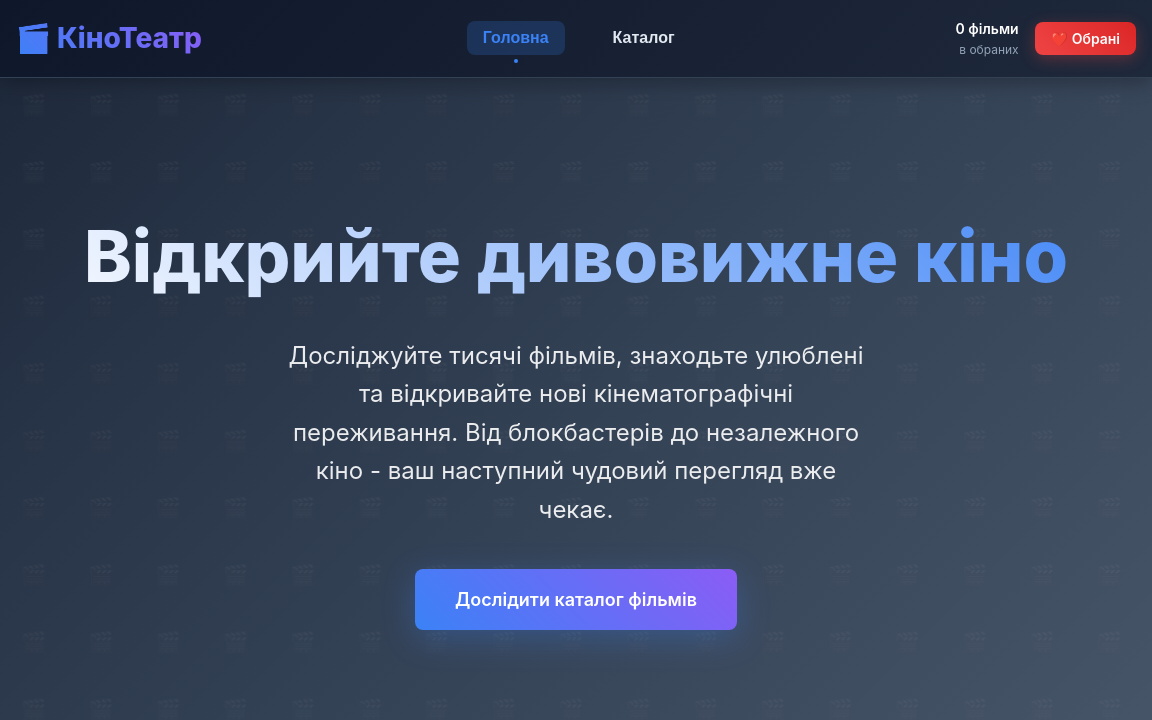
Test: Навігація › переходить між всіма сторінками
Expected: the heading "Відкрийте дивовижне кіно" is shown, [16,198,1136,313]
Click the button "Каталог".
click(644, 38)  # box [597,21,691,55]
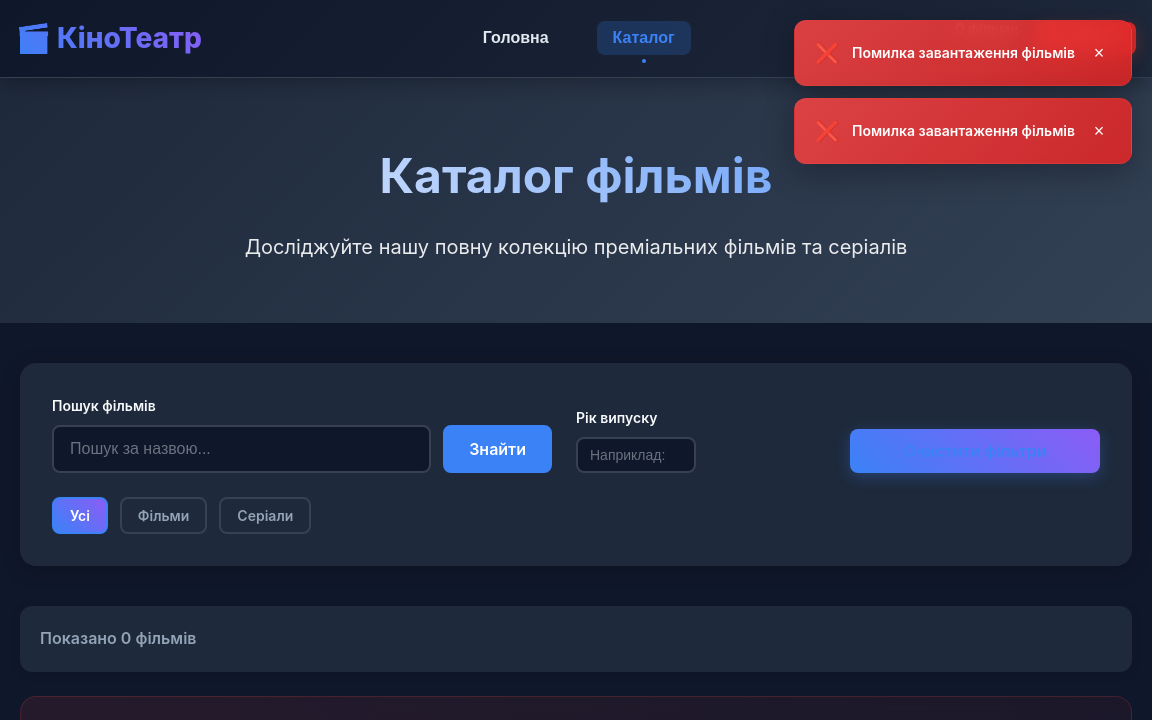
Expected: the heading "Каталог фільмів" is shown, [16,138,1136,215]
Click the button with test id "favorites-button".
click(1086, 39)  # box [1035,22,1136,55]
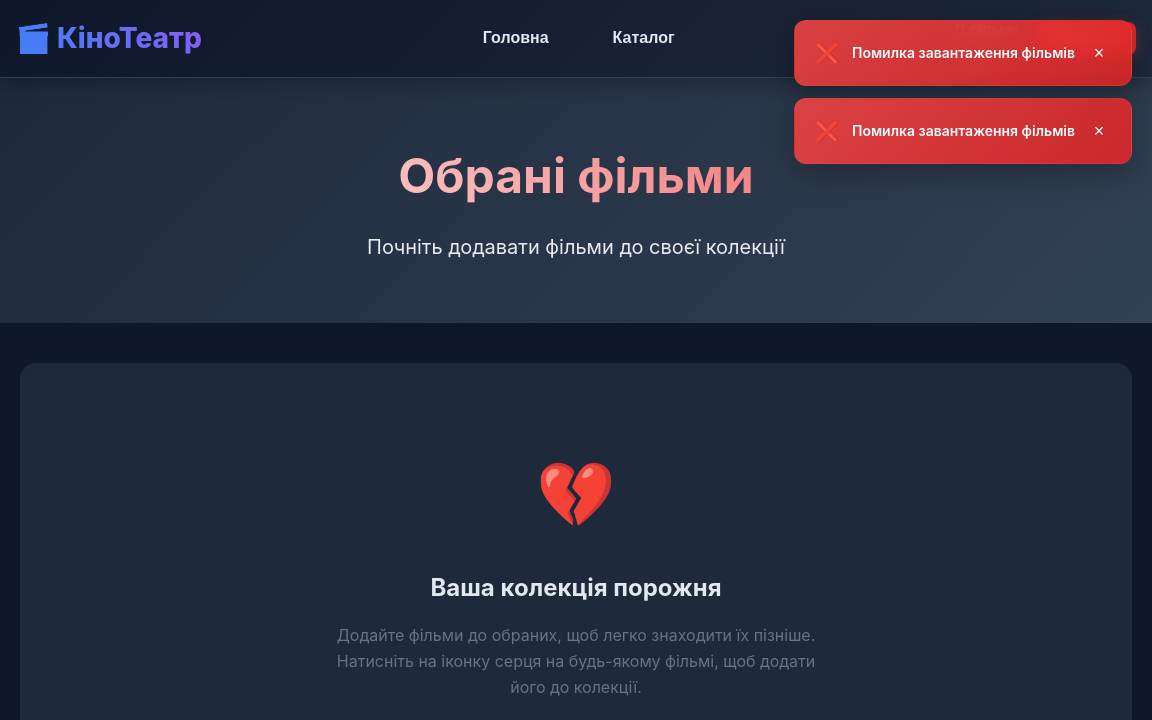
Now the heading "Обрані фільми" is shown, box [16,138,1136,215]
Click the heading "🎬 КіноТеатр".
click(109, 39)  # box [16,16,202,61]
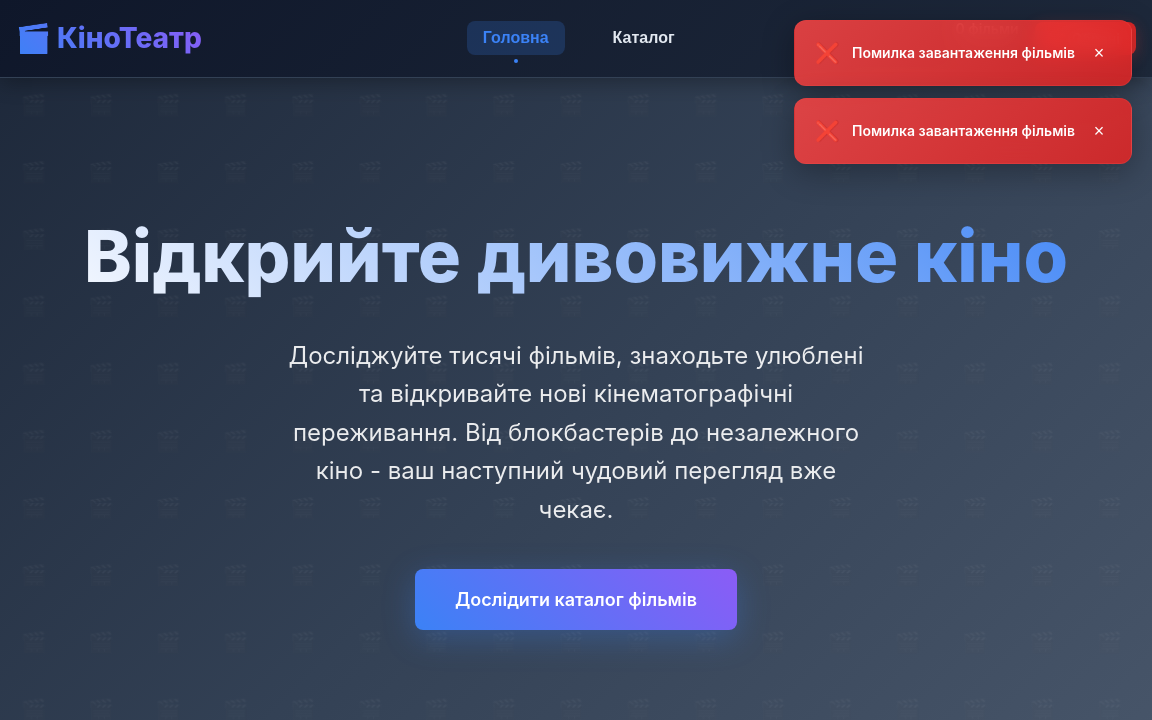
Now the heading "Відкрийте дивовижне кіно" is shown, box [16,198,1136,313]
